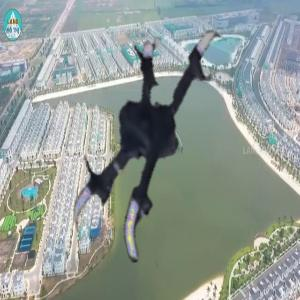drone: (48, 29, 288, 269)
